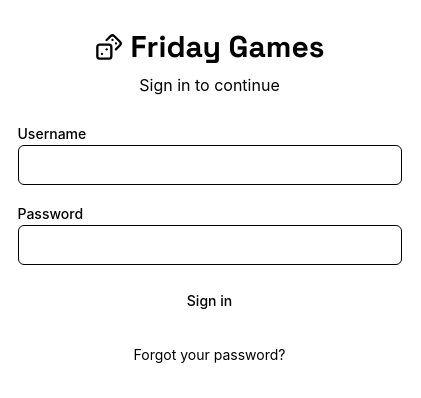
LoginPage › shows invalid-credentials message when the API is healthy
Type "alice" into the field labelled "Username".
click(210, 165); type("alice")  # box [18,145,402,185]
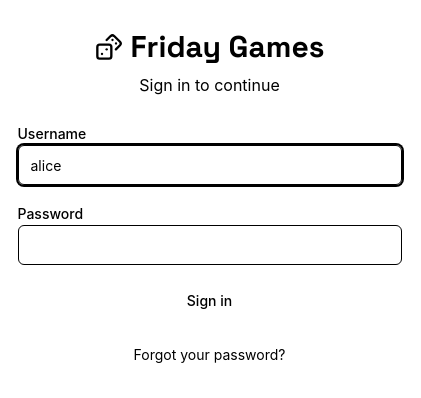
Type "wrong" into the password field labelled "Password".
click(210, 245); type("wrong")  # box [18,225,402,265]
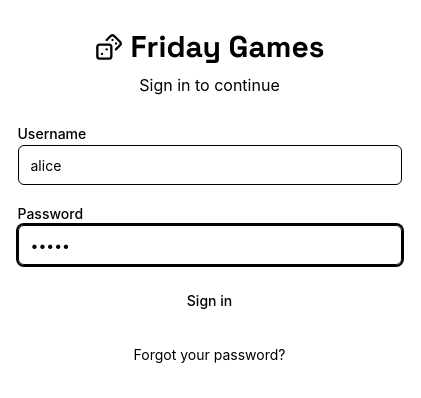
Click the button "Sign in".
click(210, 301)  # box [18,281,402,321]
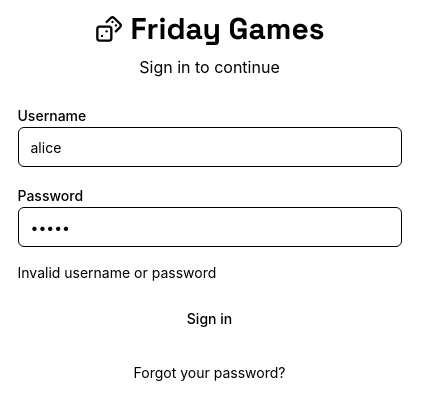
Expected: the text "Invalid username or password" is shown, [18,264,216,281]
